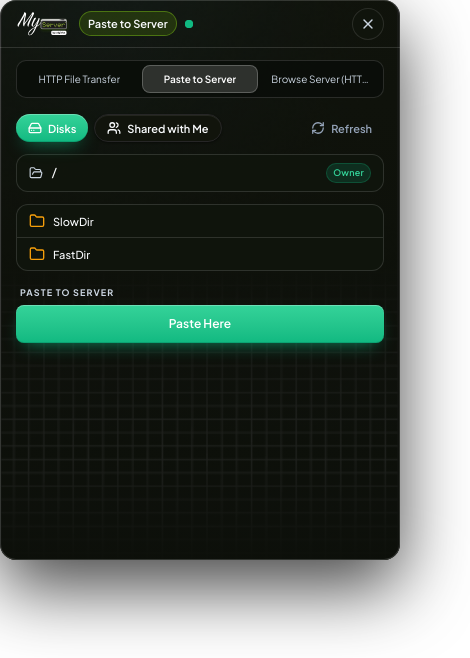
Scenario: TransferWindow › drops stale browseTransferDirectory responses when switching folders rapidly
Expected: the text "SlowDir" is shown, x1=53 y1=214 x2=94 y2=228
Click the button "SlowDir" at (73, 221), box x1=29 y1=213 x2=371 y2=229
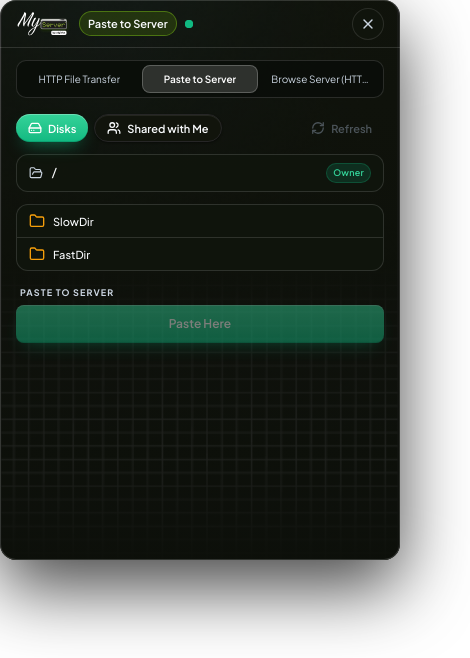
Click the button "FastDir" at (72, 254), box x1=29 y1=246 x2=371 y2=262
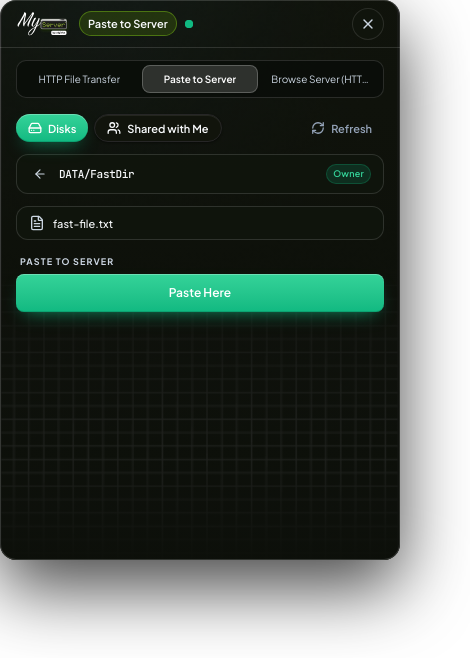
Result: the text "fast-file.txt" is shown at x1=53 y1=216 x2=113 y2=230
